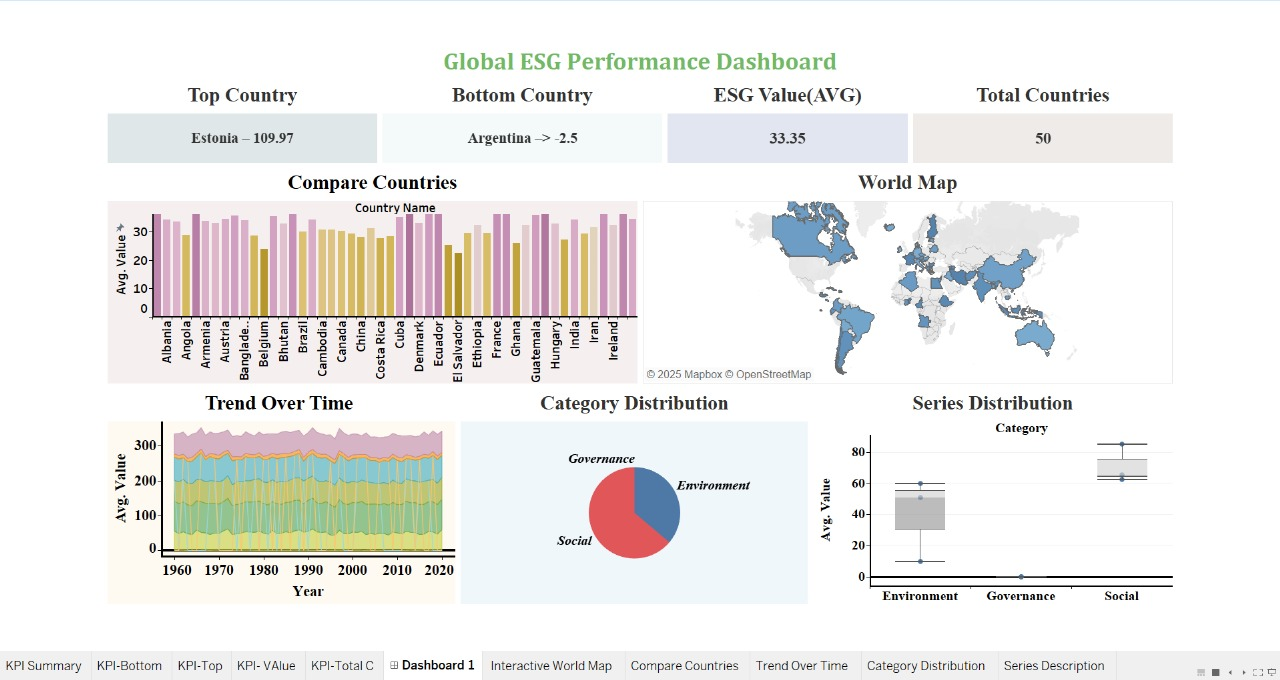

What the dashboard file says about the page in this screenshot:
{"tool":"tableau","page":{"name":"Dashboard 1","canvas":[1000,1000],"units":"permille","ordinal":0},"visuals":[{"type":"title","box":[4.9,10.5,990.1,67.1]},{"type":"worksheet","title":"KPI-Top","mark":"Automatic","box":[4.9,77.6,254.3,150.7]},{"type":"worksheet","title":"KPI-Bottom","mark":"Text","box":[259.3,77.6,263.6,150.7]},{"type":"worksheet","title":"KPI- VAlue","mark":"Automatic","box":[522.8,77.6,227.2,150.7]},{"type":"worksheet","title":"KPI-Total C","mark":"Automatic","box":[750,77.6,245.1,150.7]},{"type":"worksheet","title":"Compare Countries","mark":"Bar","rows":["Value"],"cols":["Country Name"],"box":[4.9,228.3,495.1,380.5]},{"type":"worksheet","title":" Interactive World Map","mark":"Automatic","box":[500,228.3,495.1,380.5]},{"type":"worksheet","title":"Trend Over Time ","mark":"Area","rows":["Value"],"cols":["Year"],"box":[4.9,608.9,326.4,380.6]},{"type":"worksheet","title":"Category Distribution","mark":"Pie","box":[331.3,608.9,326.4,380.6]},{"type":"worksheet","title":"Series Description","mark":"Circle","rows":["Value"],"cols":["Category"],"box":[657.7,608.9,337.4,380.6]}]}

Visuals, with their boxes on the dashboard's canvas, which has no fixed pixel size, in thousandths of its width and height (x1, y1, x2, y2). These are canvas units, not pixel positions in the 1280x680 screenshot, which may show the page scaled, cropped or inside an application window:
title: 5/10/995/78
"KPI-Top" worksheet: 5/78/259/228
"KPI-Bottom" worksheet (Text marks): 259/78/523/228
"KPI- VAlue" worksheet: 523/78/750/228
"KPI-Total C" worksheet: 750/78/995/228
"Compare Countries" worksheet (Bar marks): 5/228/500/609
" Interactive World Map" worksheet: 500/228/995/609
"Trend Over Time " worksheet (Area marks): 5/609/331/990
"Category Distribution" worksheet (Pie marks): 331/609/658/990
"Series Description" worksheet (Circle marks): 658/609/995/990
